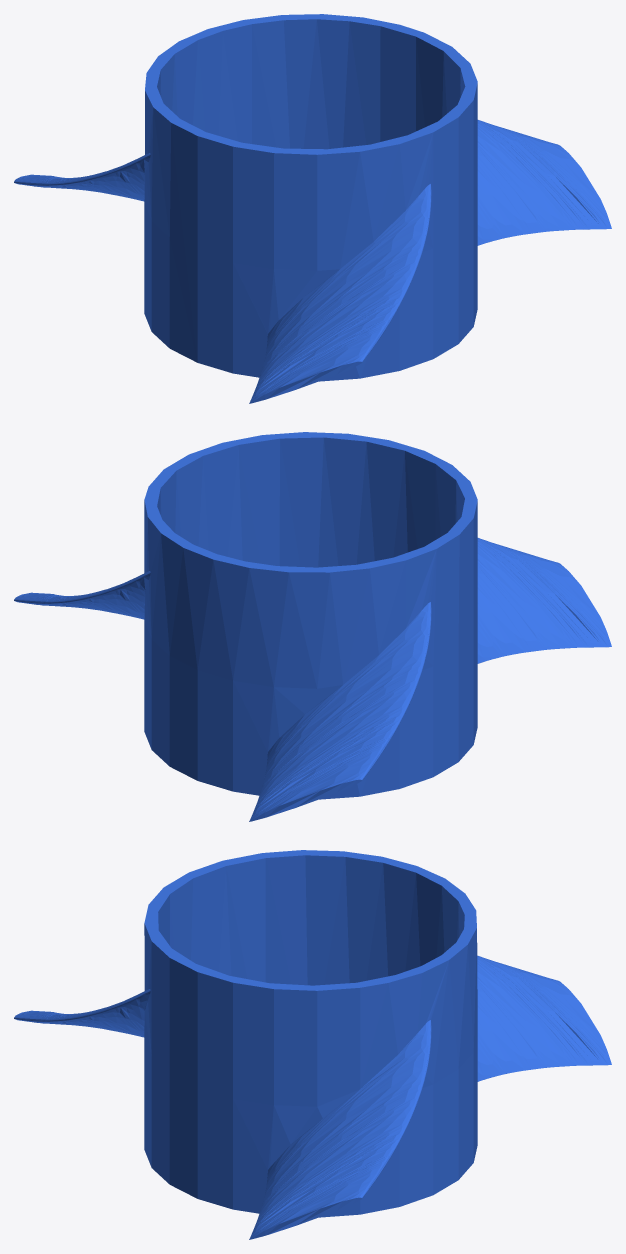
The model's file is T200_Prop_CCW.dae.
The picture shows the model from 3 angles, top to bottom: view 1: azimuth 30°, elevation 25°; view 2: azimuth 150°, elevation 25°; view 3: azimuth 270°, elevation 25°; orthographic projection.
Visible parts, largest first — view 1: Prop_Ccw; view 2: Prop_Ccw; view 3: Prop_Ccw.
Boxes of the visible parts, x1,y1,x2,y2 form: Prop_Ccw: (14, 14, 611, 403); Prop_Ccw: (14, 432, 611, 821); Prop_Ccw: (14, 850, 611, 1239).
Bounding box in the file's own units: 0.0632 × 0.0717 × 0.03.
